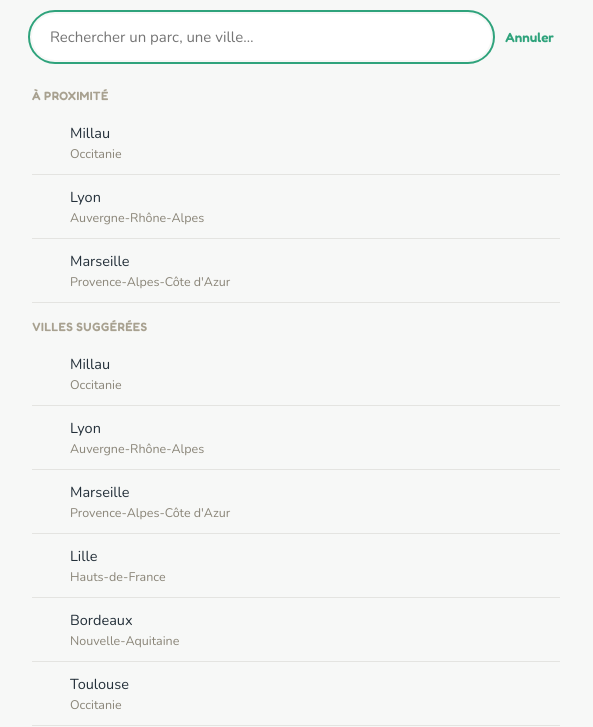
Test case: SearchOverlay — Entrée = recherche géographique › shows a clean error message when geocoding fails, and selects nothing
The image size is (593, 727).
Type "Barcelone" into the field with placeholder "Rechercher un parc, une ville…" at (262,37), box 32,14 -> 491,60
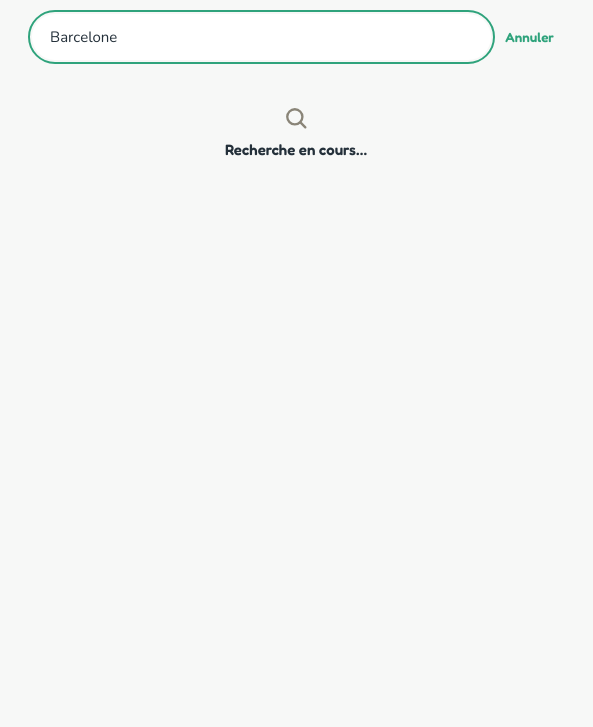
Submit the form with placeholder "Rechercher un parc, une ville…", box 16,0 -> 576,72
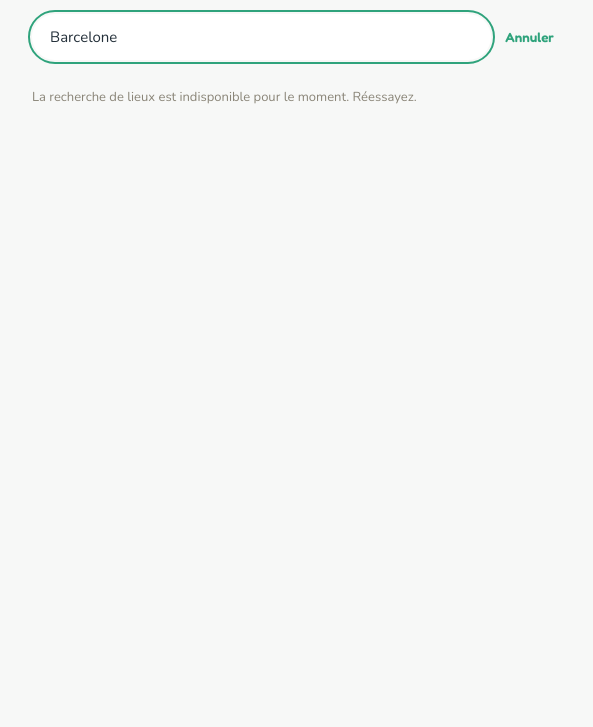
Expected: the text "La recherche de lieux est indisponible pour le moment. Réessayez." is shown, 32,88 -> 417,106
